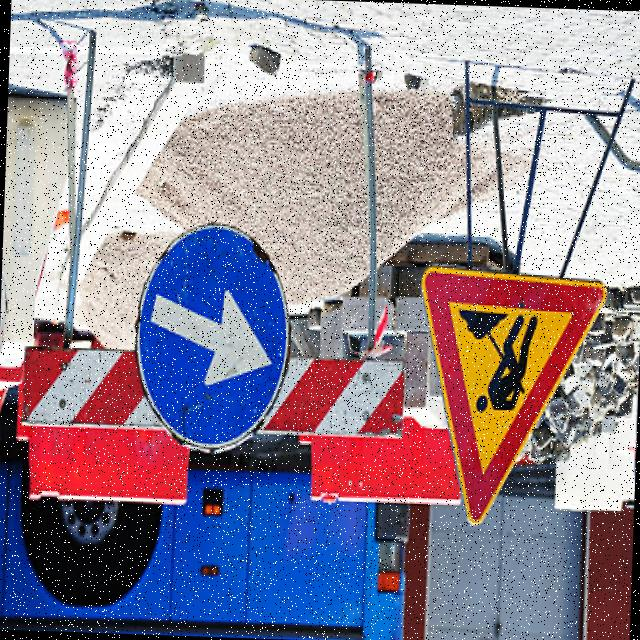road_work: (406, 264, 610, 531)
